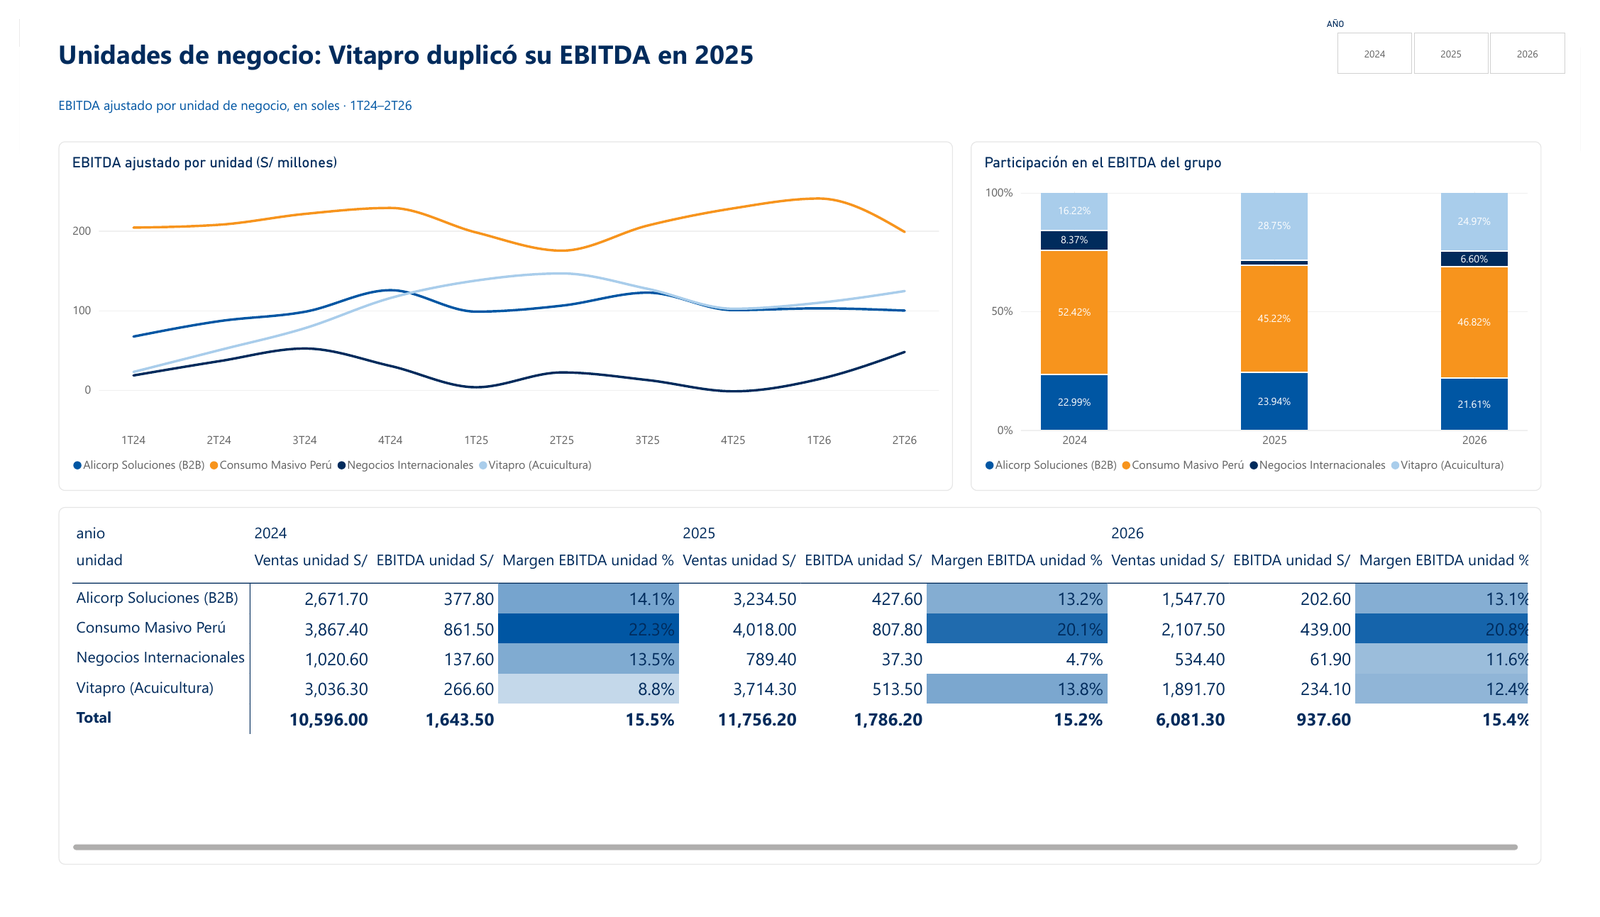

The dashboard page shown, as its layout file describes it:
{"tool":"powerbi","page":{"name":"Unidades de Negocio","canvas":[1920,1080],"ordinal":1},"visuals":[{"type":"slicer","fields":{"Values":["dim_trimestre.anio"]},"box":[1600,0,320,68.6],"z":0},{"type":"textbox","box":[48,20,1000,70],"z":1000},{"type":"textbox","box":[48,95,700,30],"z":2000},{"type":"lineChart","title":"EBITDA ajustado por unidad (S/ millones)","fields":{"Category":["dim_trimestre.etiqueta"],"Series":["dim_unidad.unidad"],"Y":["_Medidas.EBITDA unidad S/"]},"box":[48,150,1100,430],"z":3000},{"type":"hundredPercentStackedColumnChart","title":"Participación en el EBITDA del grupo","fields":{"Category":["dim_trimestre.anio"],"Series":["dim_unidad.unidad"],"Y":["_Medidas.Participación EBITDA %"]},"box":[1170,150,702,430],"z":4000},{"type":"pivotTable","fields":{"Columns":["dim_trimestre.anio"],"Rows":["dim_unidad.unidad"],"Values":["_Medidas.Ventas unidad S/","_Medidas.EBITDA unidad S/","_Medidas.Margen EBITDA unidad %"]},"box":[48,600,1824,440],"z":5000}]}

Visuals, with their boxes in screenshot pixels (x1, y1, x2, y2), scaled from the page's 1920x1080 canvas onto the 1600x917 screenshot:
slicer - dim_trimestre.anio: Rect(1333, 0, 1599, 58)
textbox: Rect(40, 17, 873, 76)
textbox: Rect(40, 81, 623, 106)
"EBITDA ajustado por unidad (S/ millones)" lineChart: Rect(40, 127, 957, 492)
"Participación en el EBITDA del grupo" hundredPercentStackedColumnChart: Rect(975, 127, 1560, 492)
pivotTable - dim_trimestre.anio x dim_unidad.unidad: Rect(40, 509, 1560, 883)
